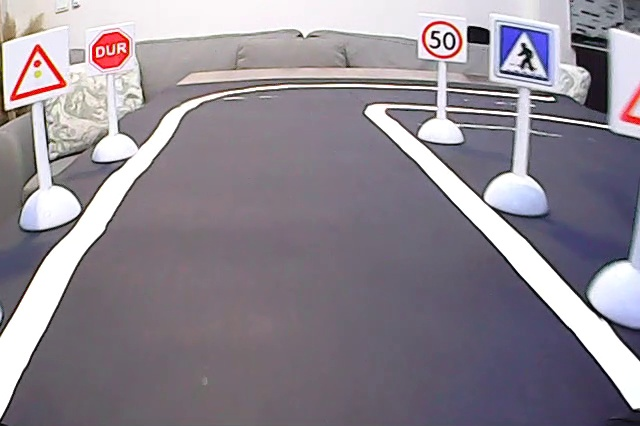pedestrian crossing: (491, 17, 556, 86)
red light: (1, 40, 70, 102)
speed limit 50: (420, 17, 470, 62)
stop sign: (87, 29, 136, 74)
